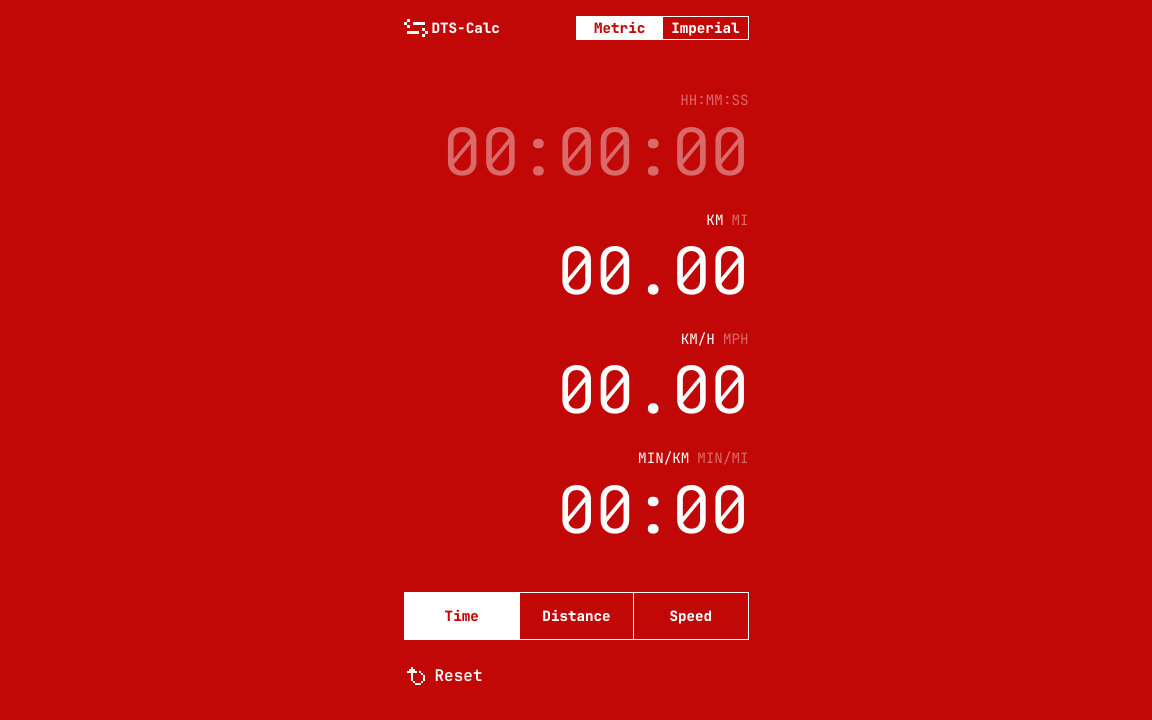
it: the shared controls on the calculator screen › format: one-digit distance and speed show two digits, but the saved value is unchanged
Step 1. Type "5" into the field with id "distanceInput" → (576, 270), box [404,228,748,313]
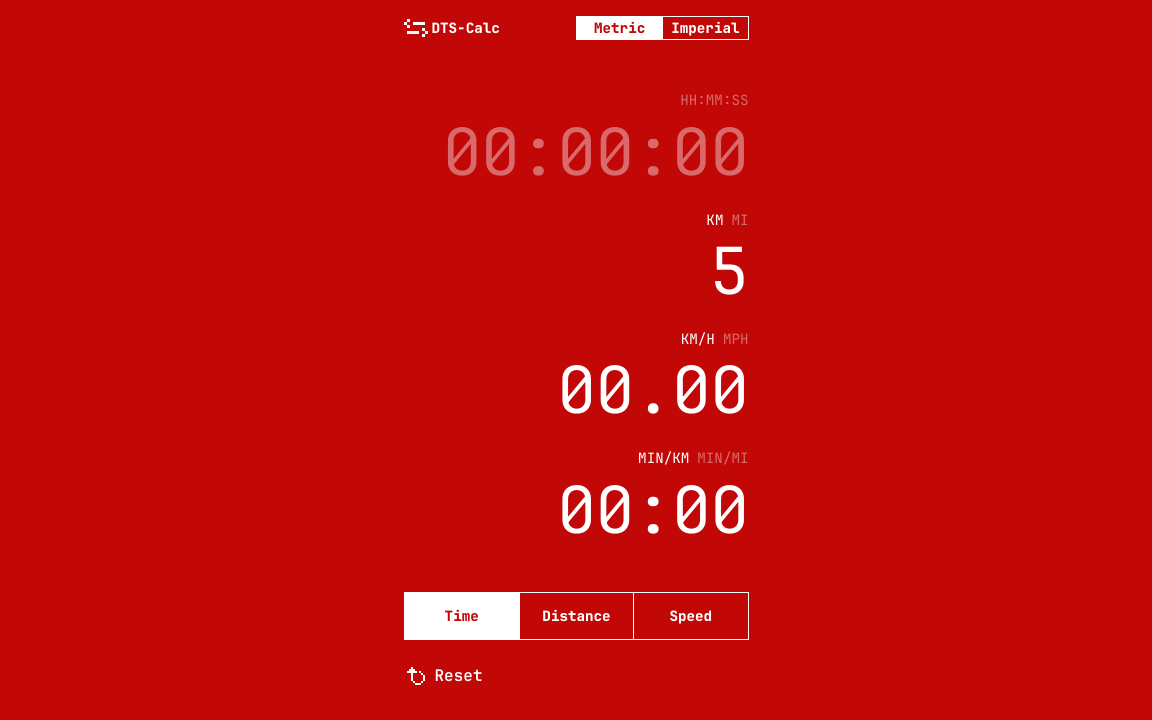
Step 2. Leave the field with id "distanceInput", box [404,228,748,313]
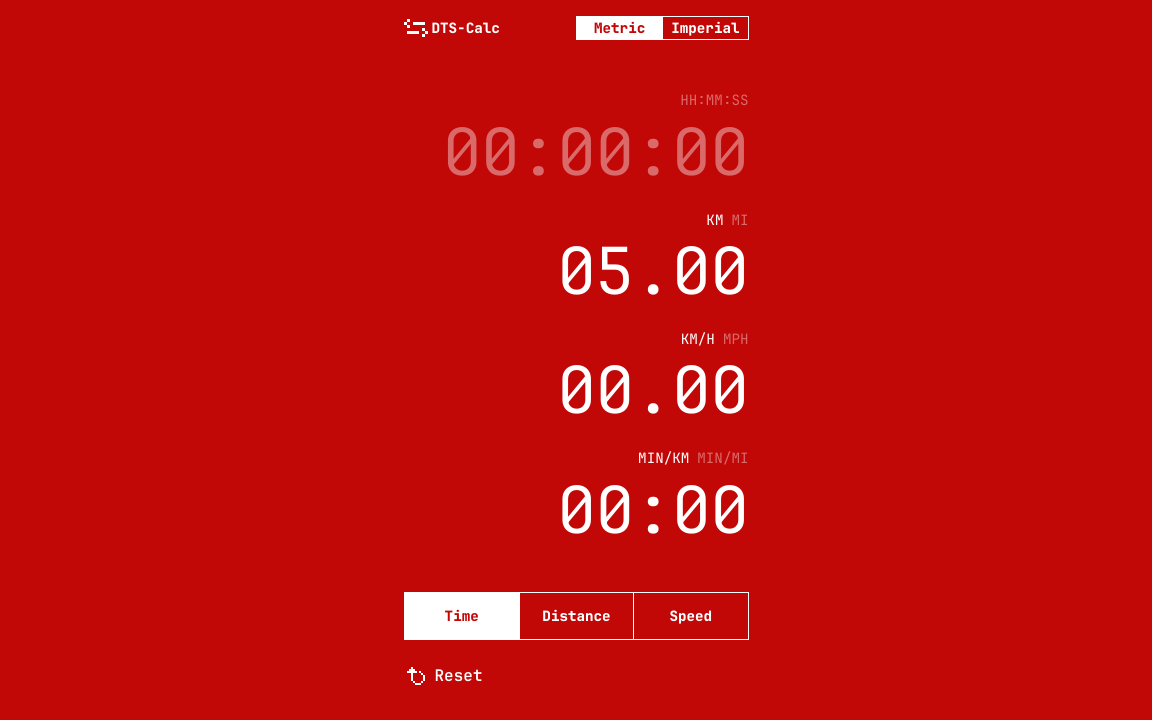
Result: the field with id "distanceInput" holds "05.00"
Note: Typing on top of the padded value does not carry the zero into the state.
Step 3. Replace the text in the field with id "distanceInput" with "05.001" → (576, 270), box [404,228,748,313]
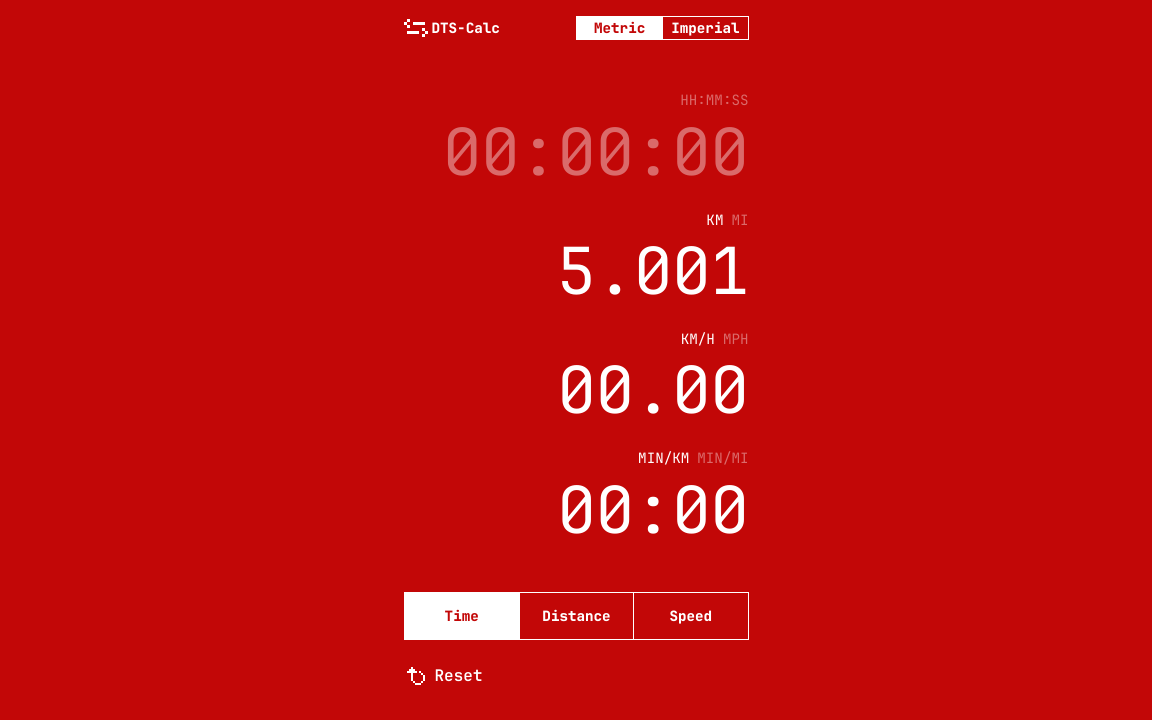
Result: the field with id "distanceInput" holds "5.001" at [404,228,748,313]
